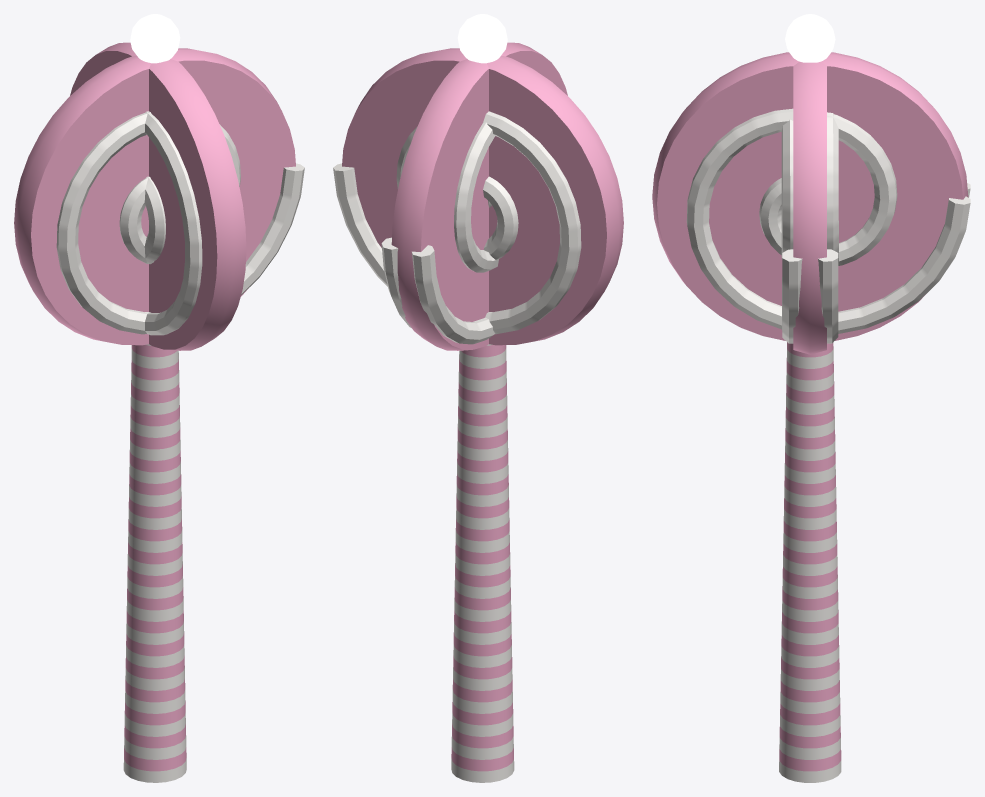
File: Landmark_LollipopTree.fbx
3 views of the same model, side by side, from view 1: azimuth 30°, elevation 25°; view 2: azimuth 150°, elevation 25°; view 3: azimuth 270°, elevation 25° (orthographic).
Parts seen in each view (by area): view 1: Landmark_LollipopTree; view 2: Landmark_LollipopTree; view 3: Landmark_LollipopTree.
Boxes of the visible parts, x1,y1,x2,y2 form: Landmark_LollipopTree: [14, 14, 304, 782]; Landmark_LollipopTree: [333, 14, 623, 782]; Landmark_LollipopTree: [652, 14, 970, 782].
Size of the model in its own units: 30.23 by 78.9 by 30.23.
